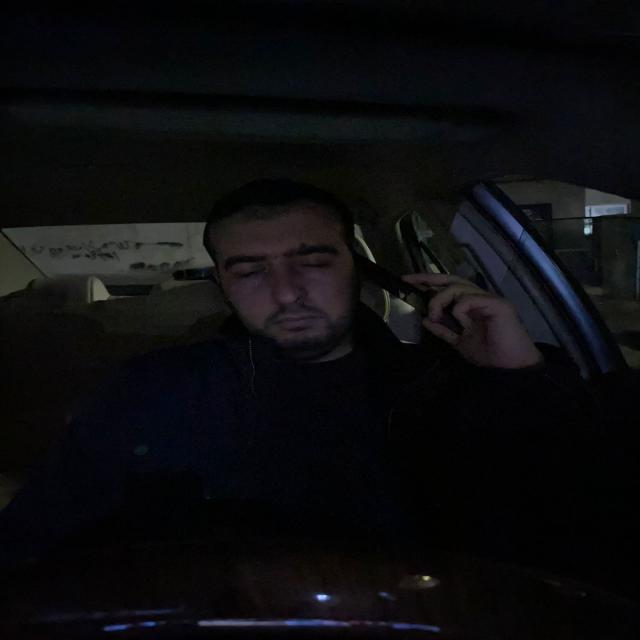mobile: (367, 258, 466, 344)
person: (192, 180, 370, 357)
